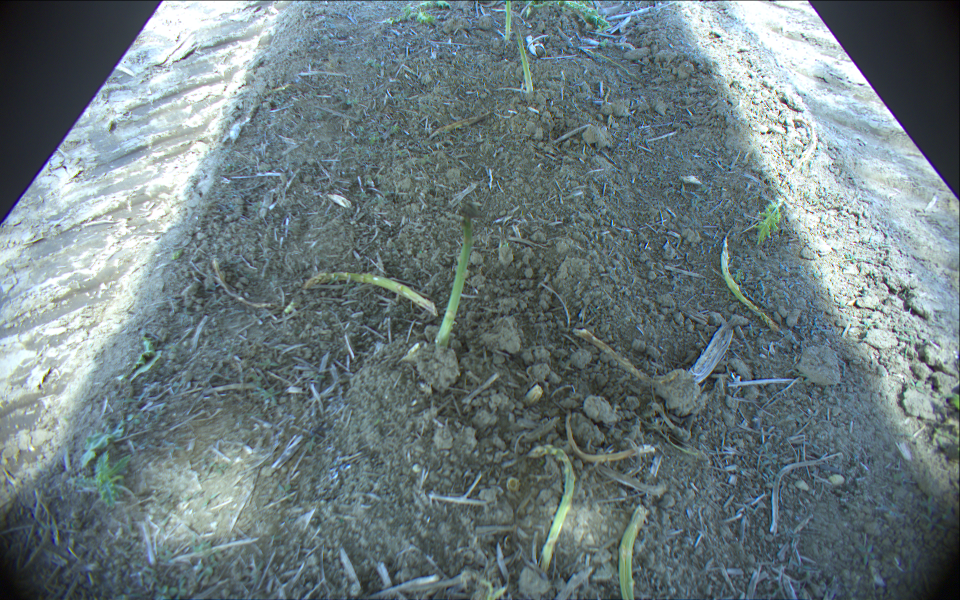aspa: (529, 443, 576, 580), (304, 272, 438, 317), (721, 237, 778, 334), (435, 206, 472, 350), (618, 504, 649, 600), (515, 18, 534, 94), (503, 1, 513, 40)
